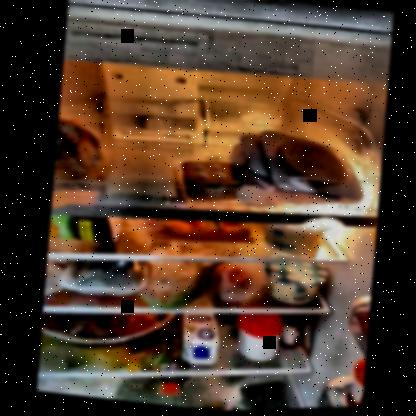broccoli: (61, 256, 141, 295)
butter: (173, 155, 242, 206)
carrot: (150, 214, 254, 249)
cheese: (101, 143, 180, 206)
green_chillies: (141, 265, 208, 315)
milk: (174, 313, 220, 367)
salami: (251, 129, 358, 200)
tomato: (206, 259, 257, 301)
yoghurt: (260, 261, 326, 311), (260, 221, 327, 259)
